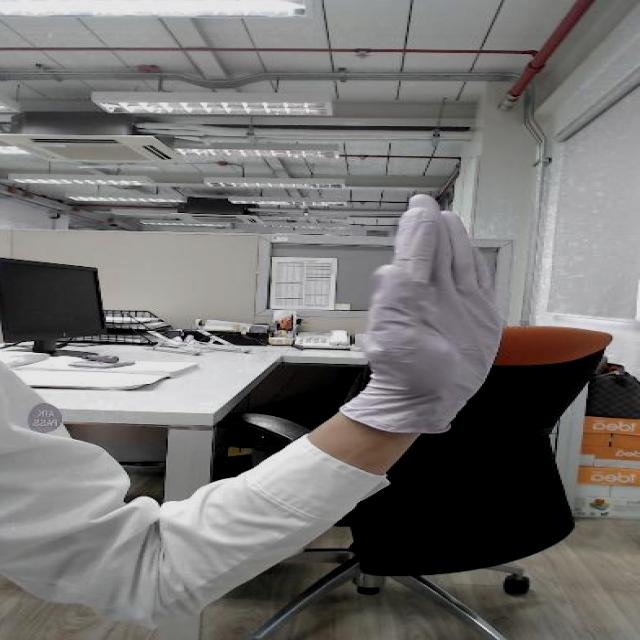glove: (328, 182, 535, 408)
